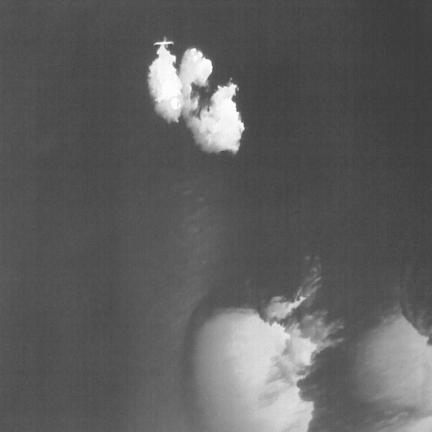flukeprints: (192, 294, 335, 431), (148, 44, 244, 152), (354, 315, 431, 413)
